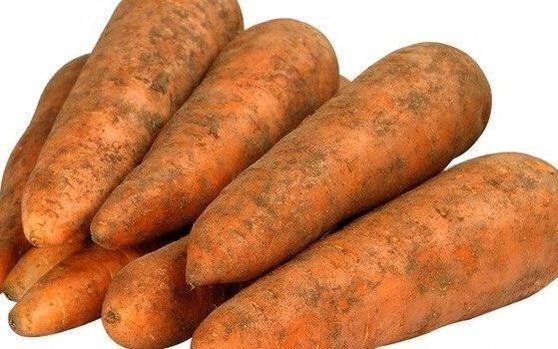carrot: (186, 38, 493, 294), (192, 146, 558, 347), (21, 1, 236, 252)
